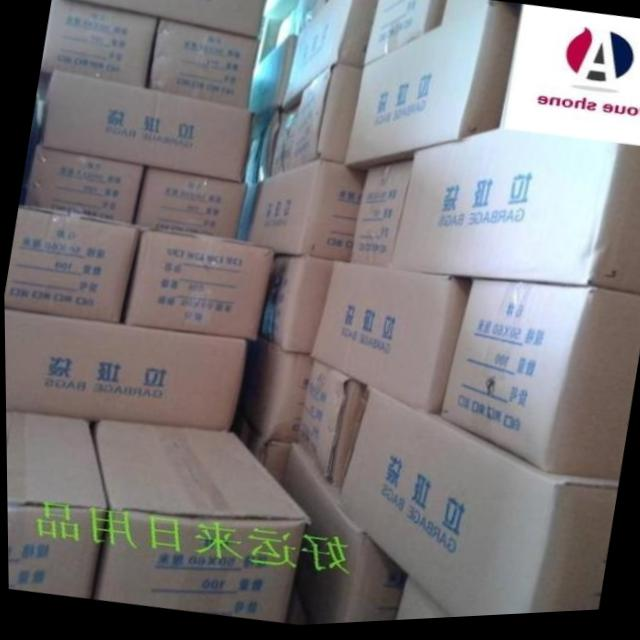box: (336, 392, 617, 622), (90, 421, 307, 626), (385, 134, 640, 299), (439, 286, 640, 488), (4, 308, 247, 436), (343, 8, 518, 176), (38, 70, 253, 185), (309, 265, 469, 418), (279, 447, 404, 628), (5, 411, 105, 600), (124, 227, 276, 342), (3, 204, 138, 325), (245, 164, 362, 266), (279, 0, 373, 115), (40, 0, 155, 89), (294, 362, 367, 498), (149, 19, 258, 110), (22, 147, 144, 221), (235, 340, 311, 447), (284, 67, 358, 172), (138, 170, 246, 240), (257, 254, 328, 358), (83, 0, 265, 39), (346, 164, 409, 271), (363, 0, 445, 66), (232, 416, 293, 486), (391, 581, 448, 624)
